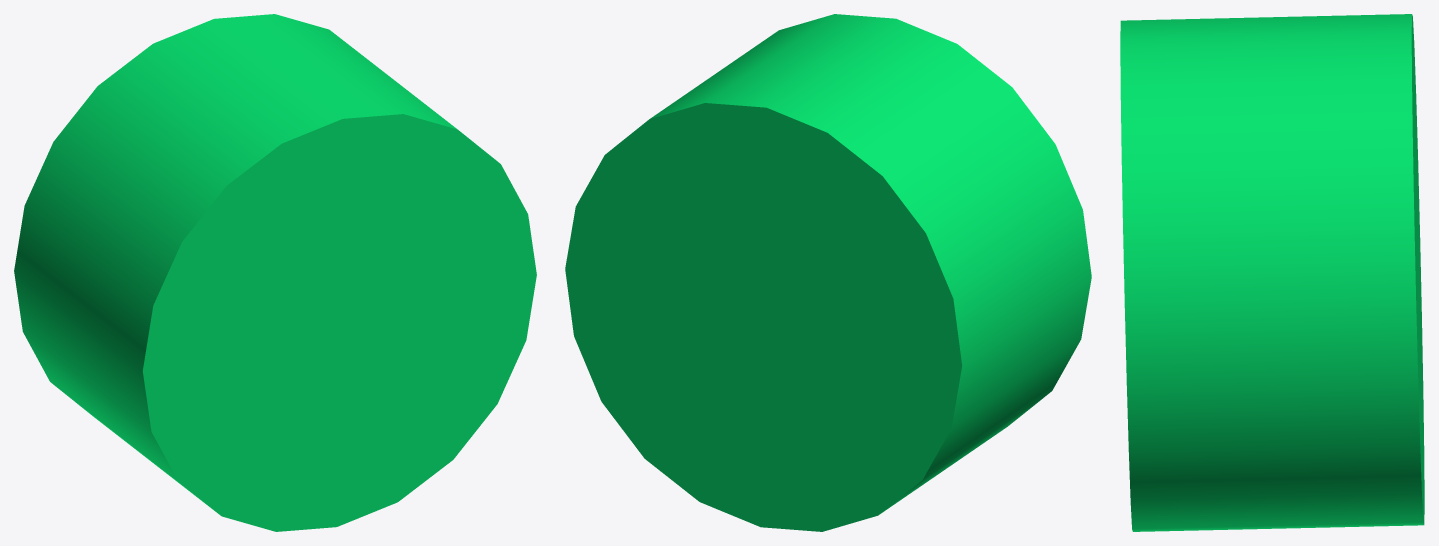
Rendered from Coin.fbx.
The picture shows the model from 3 angles, left to right: view 1: azimuth 30°, elevation 25°; view 2: azimuth 150°, elevation 25°; view 3: azimuth 270°, elevation 25°; orthographic projection. The views are drawn at different scales.
Visible parts, largest first — view 1: pCylinder1; view 2: pCylinder1; view 3: pCylinder1.
Boxes of the visible parts, bbox=[...] form: pCylinder1: bbox=[14, 14, 536, 531]; pCylinder1: bbox=[565, 14, 1091, 531]; pCylinder1: bbox=[1120, 14, 1424, 531].
Size of the model in its own units: 3.99 by 4.05 by 2.36.
